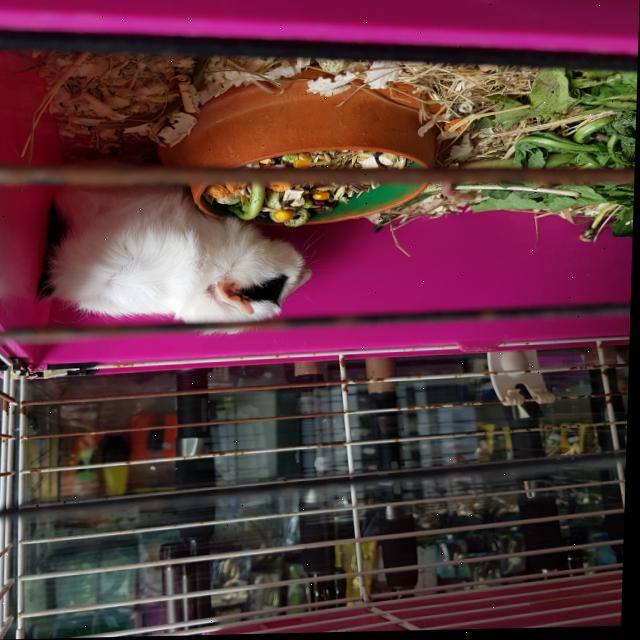guinea pig: (33, 154, 321, 344)
